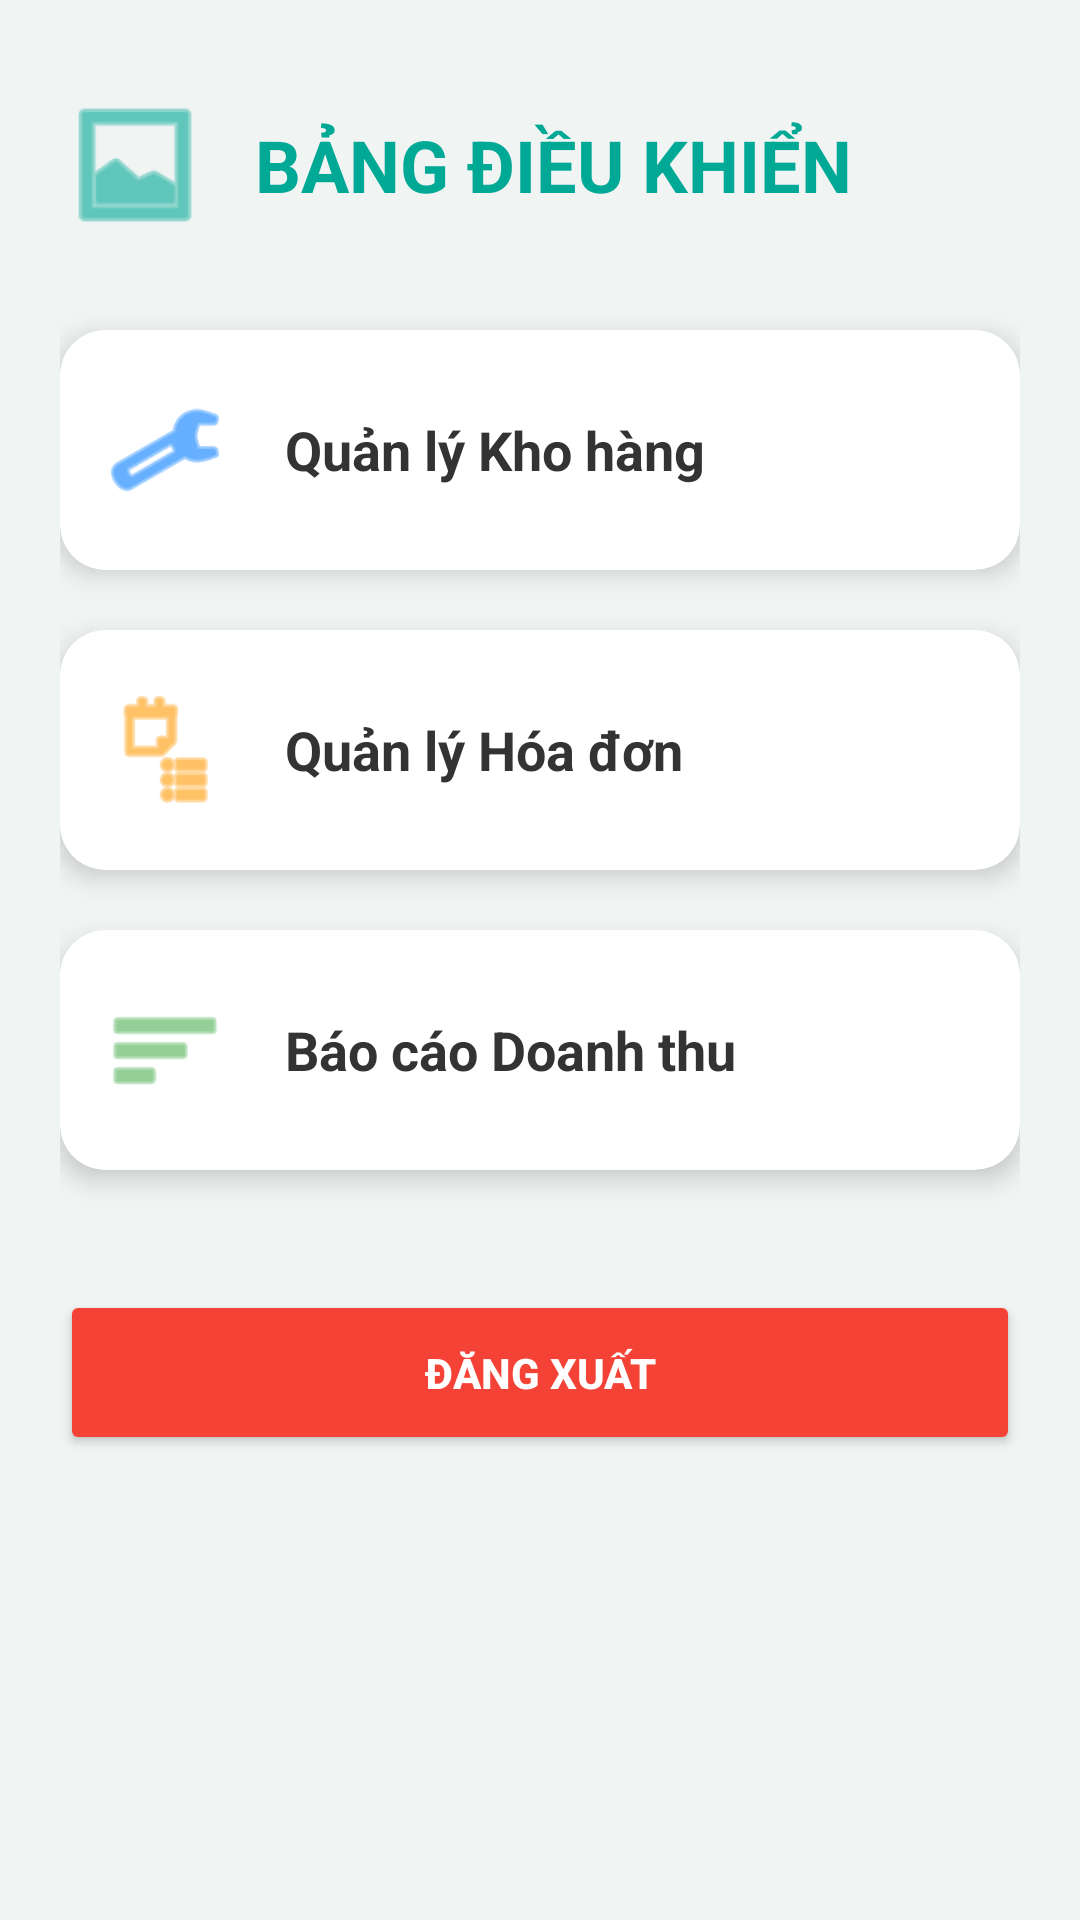

Icons on this 1080px×1920px Android screen, each with the point to tap as [x,y]:
agenda: [165,749]
gallery: [135,165]
manage: [165,450]
sort by size: [165,1050]
